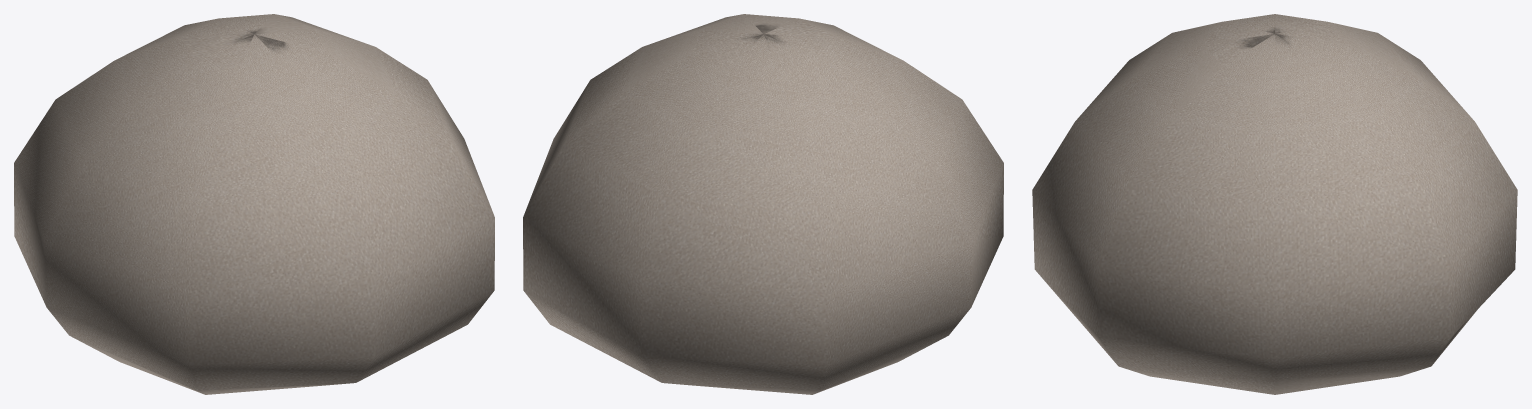
The model's file is bag_lowpoly_collider.fbx.
3 views of the same model, side by side, from view 1: azimuth 30°, elevation 25°; view 2: azimuth 150°, elevation 25°; view 3: azimuth 270°, elevation 25° (orthographic).
Visible parts, largest first — view 1: bag.lowpoly.collider; view 2: bag.lowpoly.collider; view 3: bag.lowpoly.collider.
Part boxes in pixels (bbox=[...]): bag.lowpoly.collider: bbox=[14, 14, 494, 394]; bag.lowpoly.collider: bbox=[523, 14, 1003, 394]; bag.lowpoly.collider: bbox=[1032, 14, 1517, 394].
Bounding box in the file's own units: 55.8 × 39.66 × 55.8.
